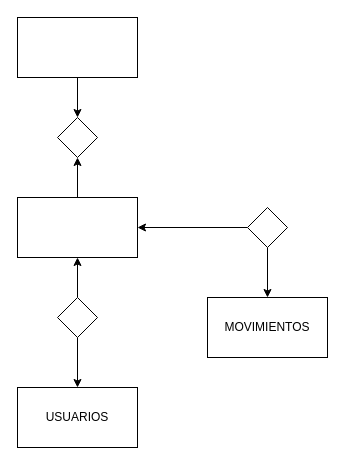
Some shapes in this 345 by 465 pixel diagram are drawn without their labels. Each missing label, with the box of its shape:
CUENTA: (16, 196, 138, 258)
TARJETAS: (16, 16, 138, 78)
